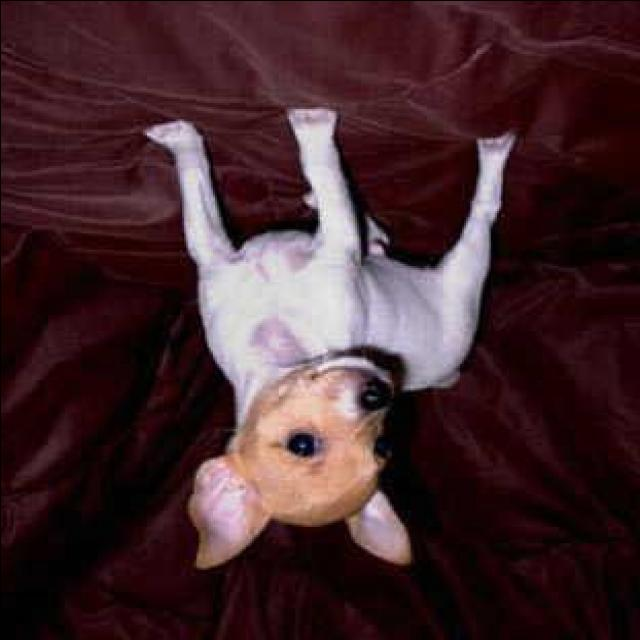toy_terrier: (140, 102, 516, 575)
